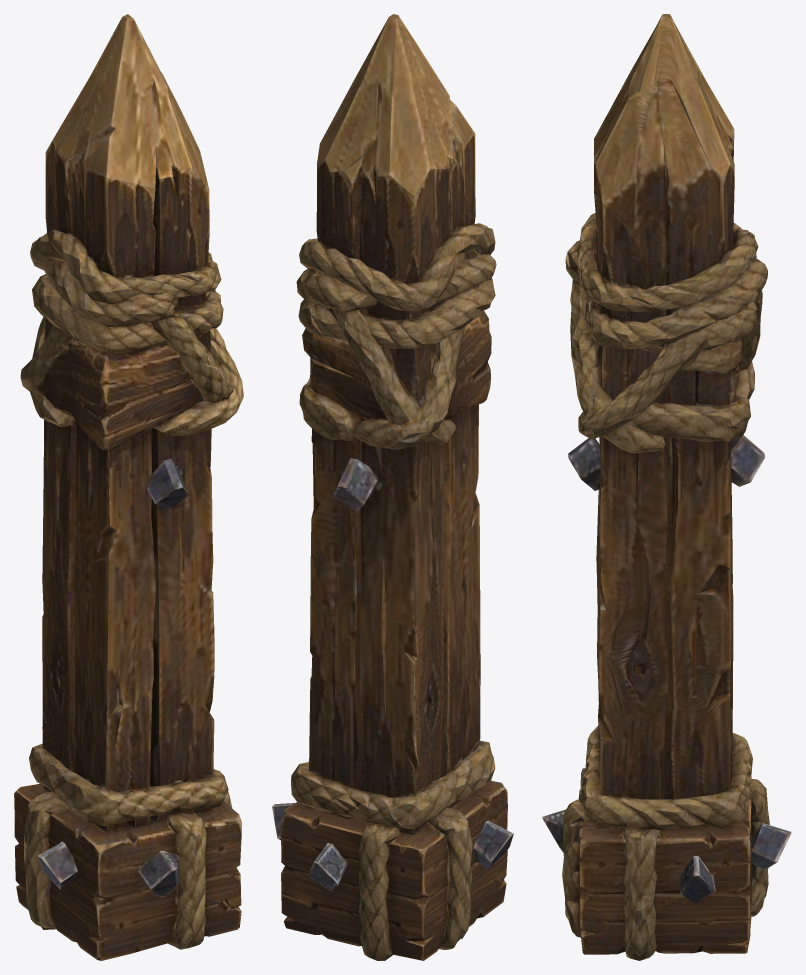
Rendered from barricade-post.glb.
The picture shows the model from 3 angles, left to right: view 1: azimuth 30°, elevation 25°; view 2: azimuth 150°, elevation 25°; view 3: azimuth 270°, elevation 25°; orthographic projection.
Parts seen in each view (by area): view 1: output_unwrapped; view 2: output_unwrapped; view 3: output_unwrapped.
Boxes of the visible parts, x1,y1,x2,y2 form: output_unwrapped: (14, 14, 243, 960); output_unwrapped: (272, 14, 513, 960); output_unwrapped: (542, 14, 791, 960).
Bounding box in the file's own units: 0.46 × 1.9 × 0.4718.
1 material, 1 textured.
